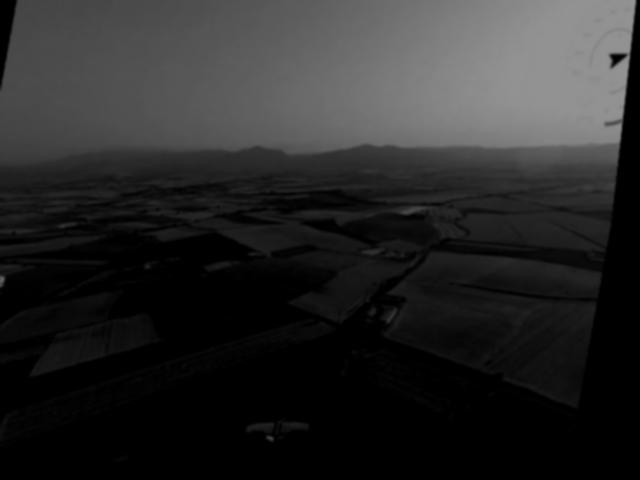hedef: (242, 400, 332, 459)
